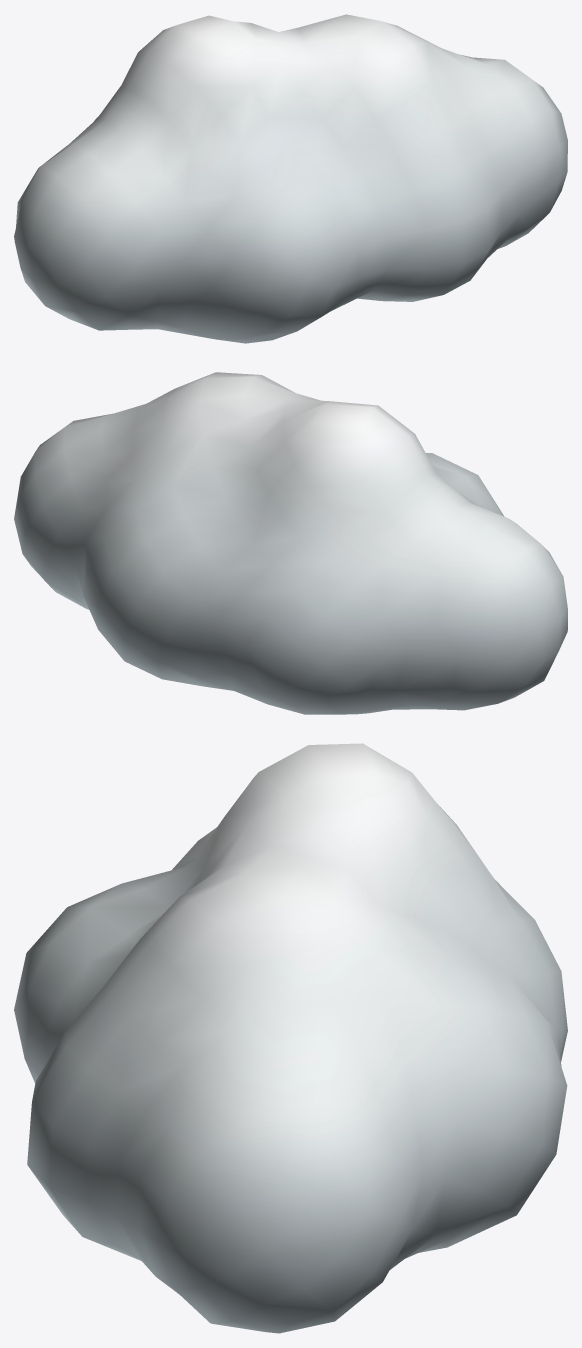
The model's file is kaykit-medieval-hexagon-pack-cloud-big.glb.
3 views of the same model, one above another, from view 1: azimuth 30°, elevation 25°; view 2: azimuth 150°, elevation 25°; view 3: azimuth 270°, elevation 25° (orthographic). The views are drawn at different scales.
Parts seen in each view (by area): view 1: cloud_big; view 2: cloud_big; view 3: cloud_big.
Boxes of the visible parts, x1,y1,x2,y2 form: cloud_big: (14,14,567,343); cloud_big: (14,372,567,714); cloud_big: (14,743,567,1333).
Bounding box in the file's own units: 3.61 × 1.95 × 2.24.
Materials: 1 (1 with a texture image).
